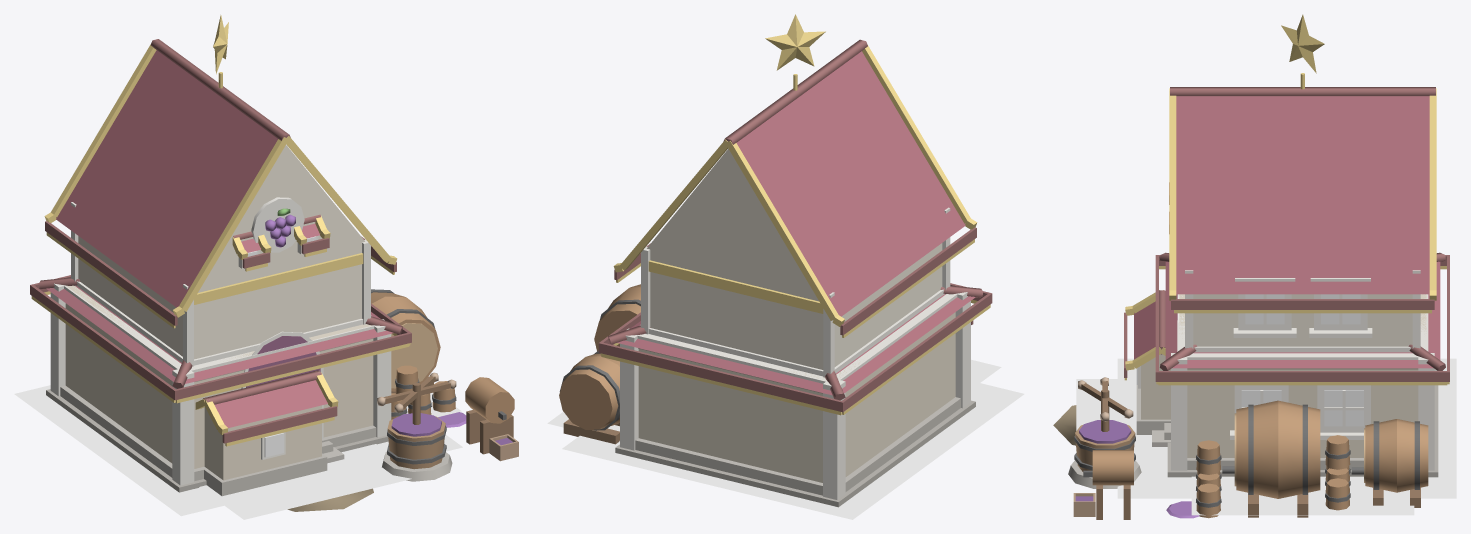
The model's file is winery_4.glb.
The picture shows the model from 3 angles, left to right: view 1: azimuth 30°, elevation 25°; view 2: azimuth 150°, elevation 25°; view 3: azimuth 270°, elevation 25°; orthographic projection. The views are drawn at different scales.
Visible parts, largest first — view 1: body5, winery_4, body3, spin_110_0; view 2: body5, winery_4; view 3: body5, winery_4, body3, body2, body4.
Boxes of the visible parts, x1,y1,x2,y2 form: body5: [30, 15, 518, 511]; winery_4: [14, 385, 462, 519]; body3: [395, 365, 466, 427]; spin_110_0: [377, 379, 456, 406]; body5: [559, 14, 992, 507]; winery_4: [547, 359, 1024, 519]; body5: [1053, 14, 1449, 519]; winery_4: [1076, 358, 1456, 515]; body3: [1166, 435, 1350, 518]; body2: [1196, 468, 1350, 497]; body4: [1078, 380, 1133, 418].
Size of the model in its own units: 2.65 by 3.16 by 2.8.
